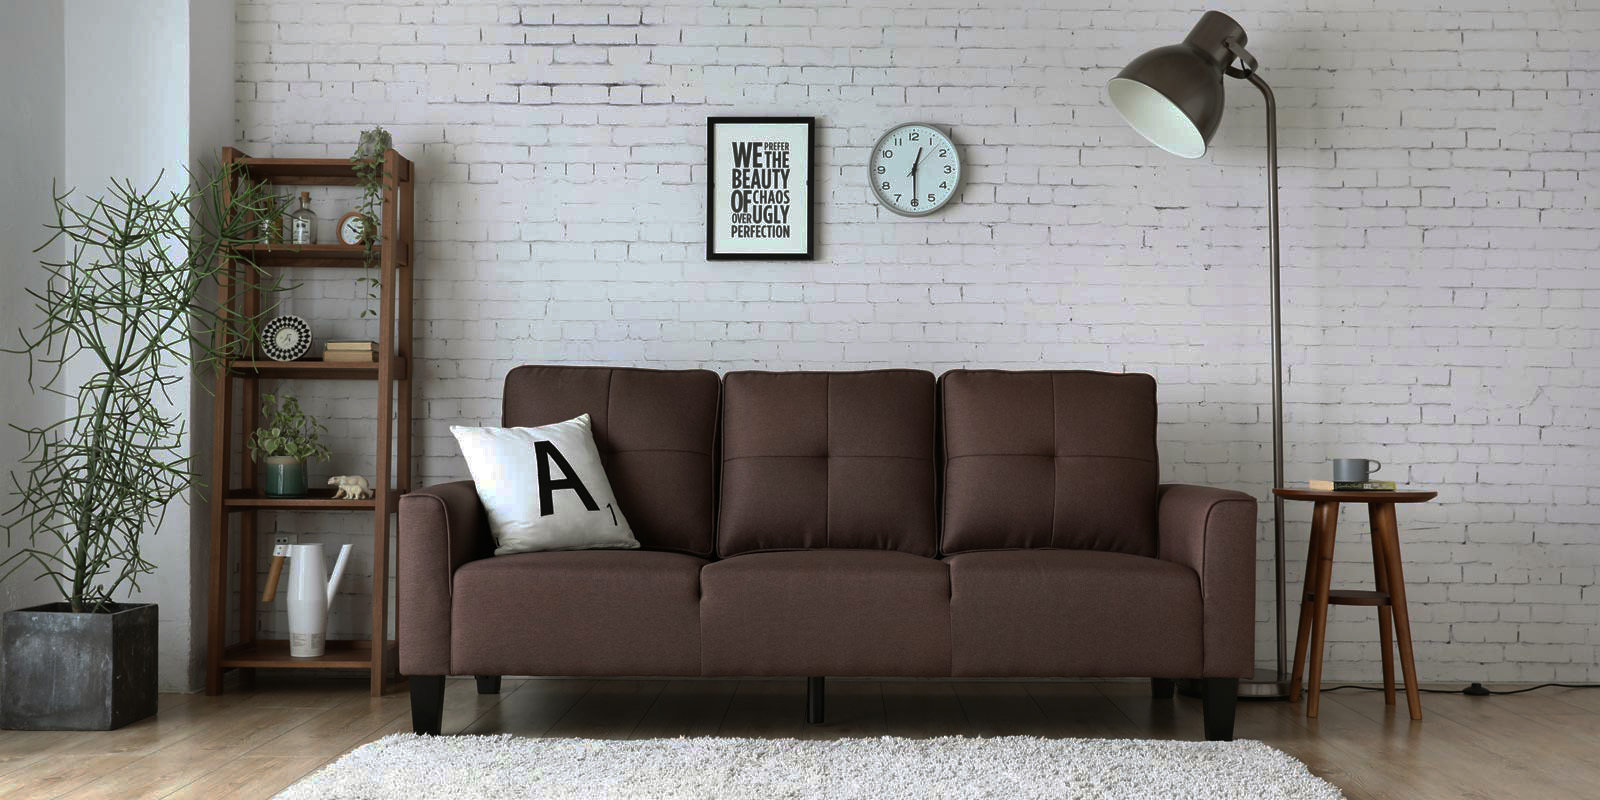Alice Three Seater Sofa in Brown Colour by Zofa: (405, 365, 1267, 740)
